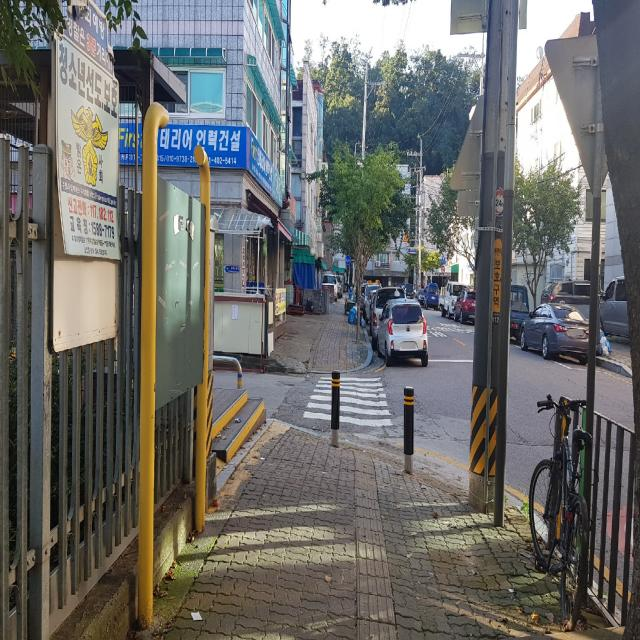횡단보도: (301, 376, 394, 429)
